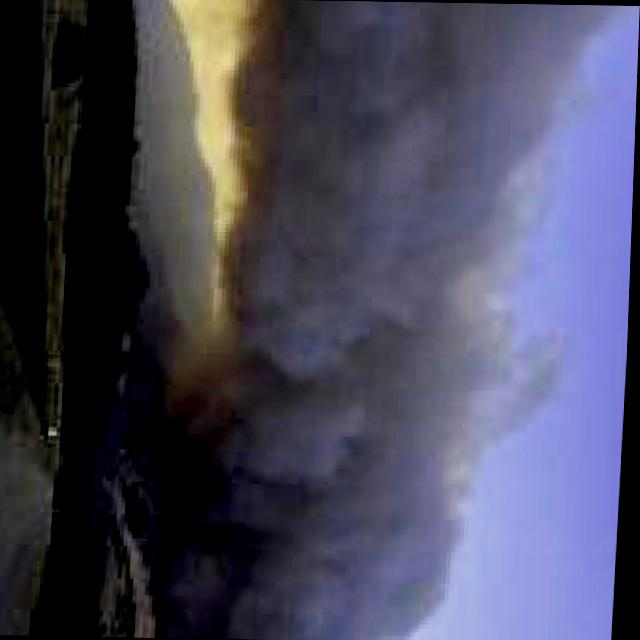smoke: (139, 189, 542, 640), (191, 0, 640, 197)
